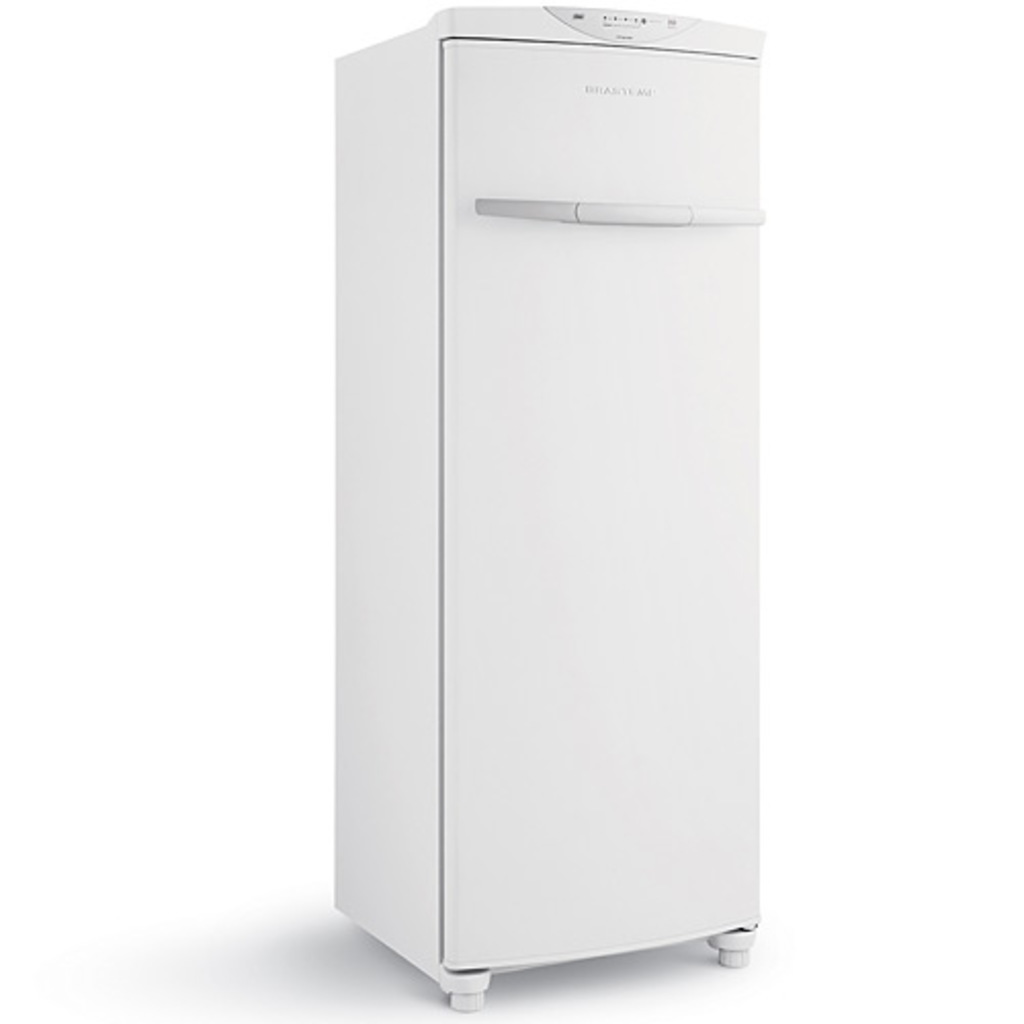handle: (475, 191, 764, 238)
refrigerator door: (454, 46, 755, 909)
